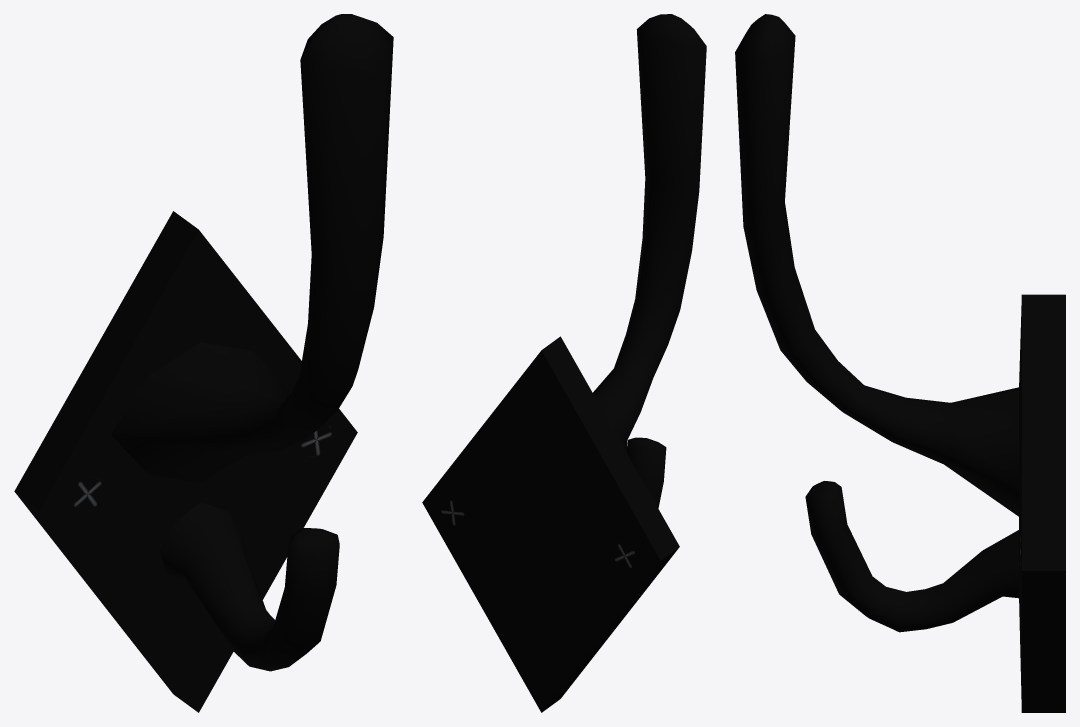
Rendered from old_hanger.fbx.
3 renders of one model, left to right at view 1: azimuth 30°, elevation 25°; view 2: azimuth 150°, elevation 25°; view 3: azimuth 270°, elevation 25°, orthographic. The views are drawn at different scales.
Parts seen in each view (by area): view 1: old_hanger; view 2: old_hanger; view 3: old_hanger.
Boxes of the visible parts, x1,y1,x2,y2 form: old_hanger: [14, 14, 393, 712]; old_hanger: [422, 14, 706, 712]; old_hanger: [735, 14, 1065, 712].
Bounding box in the file's own units: 0.0567 × 0.137 × 0.059.
